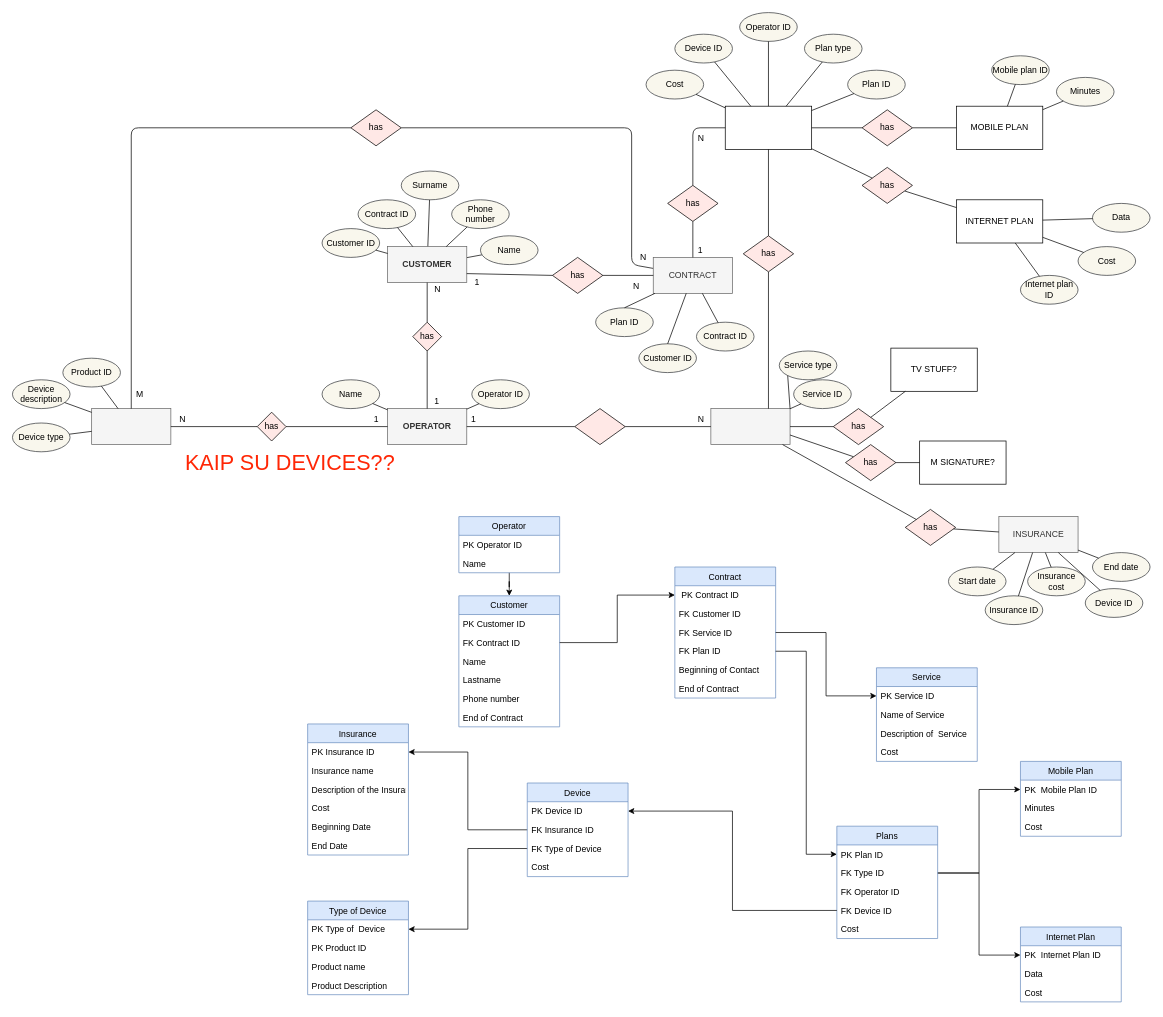
Some shapes in this 1163 by 1017 pixel diagram are drawn without their labels. The centre of each missing label's shape, as x and y in pixels:
"EQUIPMENT / DEVICES" belongs at pixel 131 426.
"OTHER SERVICES" belongs at pixel 750 426.
"PLAN" belongs at pixel 768 127.
"provides" belongs at pixel 599 426.
